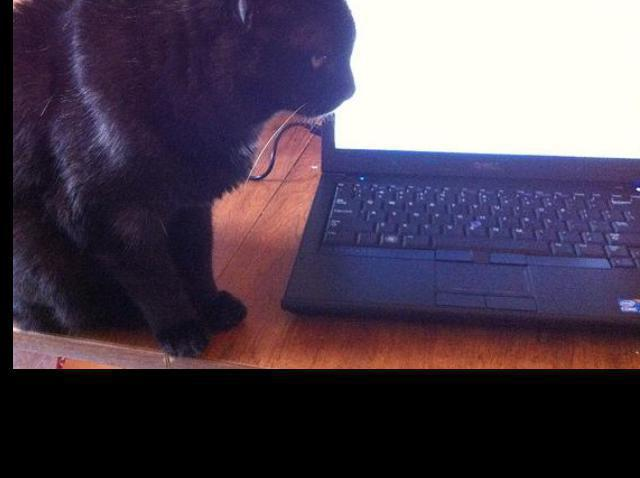Lavaplatos: (0, 0, 360, 363)
